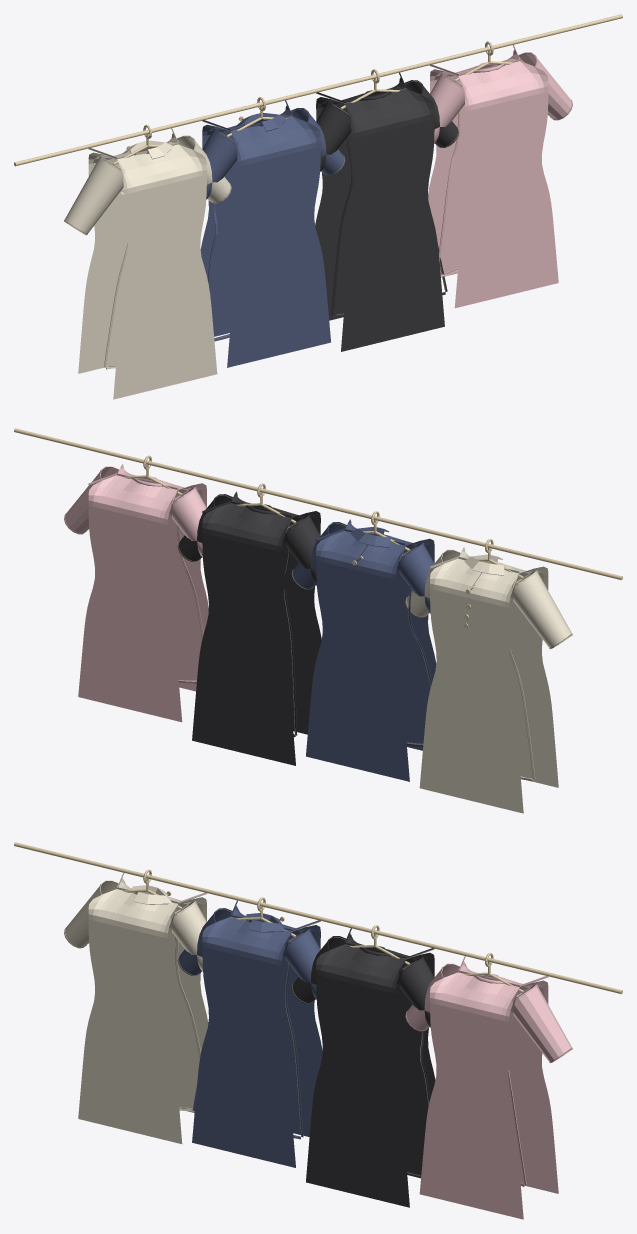
3 renders of one model, top to bottom at view 1: azimuth 30°, elevation 25°; view 2: azimuth 150°, elevation 25°; view 3: azimuth 330°, elevation 25°, orthographic.
Visible parts, largest first — view 1: pk_beige, dress_black, pk_navy, dress_pink, Cylinder.038, Cone, Cone.002, Cone.004, Cone.006, Cone.007, Cone.003, Cone.005 (+2 smaller); view 2: pk_beige, dress_black, pk_navy, dress_pink, Cylinder.038, Cone, Cone.002, Cone.004, Cone.006, Cone.007, Cone.003, Cone.005 (+3 smaller); view 3: dress_black, dress_pink, pk_beige, pk_navy, Cylinder.038, Cone.007, Cone.005, Cone.003, Cone.001, Cone, Cone.004, Cone.002 (+3 smaller).
Part boxes in pixels (box(x1,y1,x2,y2)): pk_beige: box(78, 133, 217, 399); dress_black: box(315, 77, 444, 351); pk_navy: box(200, 105, 330, 367); dress_pink: box(428, 50, 558, 308); Cylinder.038: box(14, 14, 622, 166); Cone: box(65, 158, 123, 233); Cone.002: box(202, 130, 237, 199); Cone.004: box(316, 103, 351, 171); Cone.006: box(430, 75, 464, 143); Cone.007: box(519, 54, 571, 119); Cone.003: box(291, 109, 344, 174); Cone.005: box(405, 81, 458, 147); pk_beige: box(419, 547, 558, 813); dress_black: box(192, 491, 321, 765); pk_navy: box(306, 519, 436, 781); dress_pink: box(78, 464, 208, 722); Cylinder.038: box(14, 428, 622, 580); Cone: box(513, 572, 571, 647); Cone.002: box(399, 544, 434, 613); Cone.004: box(285, 517, 320, 585); Cone.006: box(172, 489, 206, 557); Cone.007: box(65, 468, 118, 533); Cone.003: box(292, 523, 345, 588); Cone.005: box(178, 495, 232, 561); dress_black: box(306, 933, 435, 1207); dress_pink: box(419, 961, 558, 1219); pk_beige: box(78, 878, 208, 1143); pk_navy: box(192, 905, 322, 1167); Cylinder.038: box(14, 842, 622, 994); Cone.007: box(513, 986, 571, 1061); Cone.005: box(399, 958, 434, 1027); Cone.003: box(285, 931, 320, 999); Cone.001: box(172, 903, 206, 971); Cone: box(65, 882, 117, 947); Cone.004: box(292, 937, 345, 1002); Cone.002: box(178, 909, 231, 974).
Size of the model in its own units: 3.2 by 1.29 by 0.3509.
